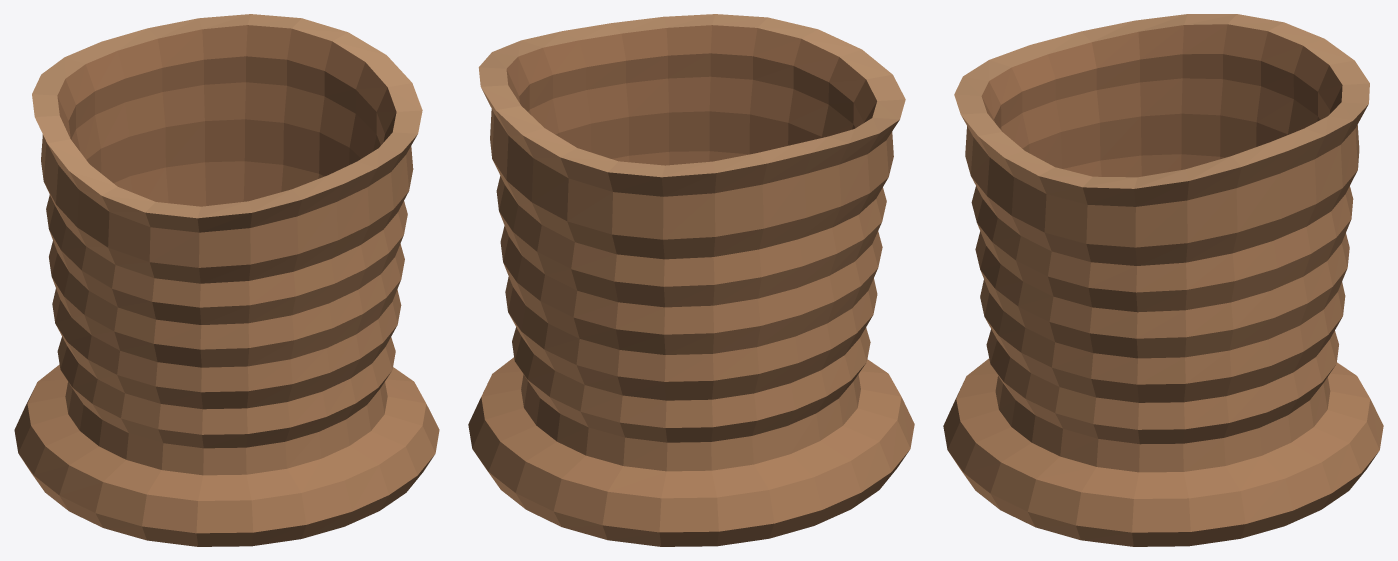
The picture shows the model from 3 angles, left to right: view 1: azimuth 30°, elevation 25°; view 2: azimuth 150°, elevation 25°; view 3: azimuth 270°, elevation 25°; orthographic projection. The views are drawn at different scales.
Parts seen in each view (by area): view 1: ContinuousUntrimmedPulledClayBlank; view 2: ContinuousUntrimmedPulledClayBlank; view 3: ContinuousUntrimmedPulledClayBlank.
Part boxes in pixels (<box>): ContinuousUntrimmedPulledClayBlank: <box>14,14,439,546</box>; ContinuousUntrimmedPulledClayBlank: <box>468,14,914,546</box>; ContinuousUntrimmedPulledClayBlank: <box>943,14,1383,546</box>.
Size of the model in its own units: 0.4975 by 0.4725 by 0.5004.
